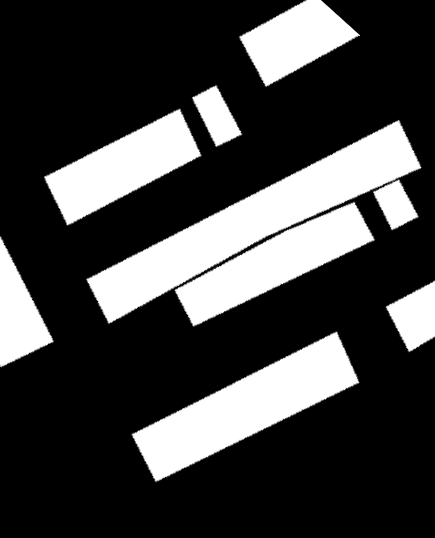parkingspot: (86, 120, 421, 324), (132, 332, 359, 482), (175, 202, 374, 326), (44, 109, 201, 225), (239, 0, 360, 87), (0, 237, 53, 367), (386, 281, 435, 352), (192, 85, 242, 147), (373, 180, 418, 230)
